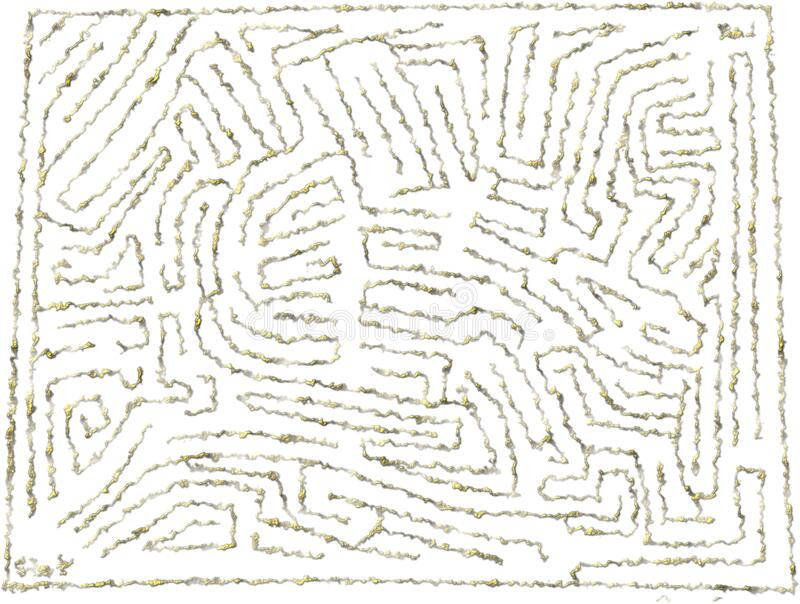maze: (6, 5, 796, 593)
